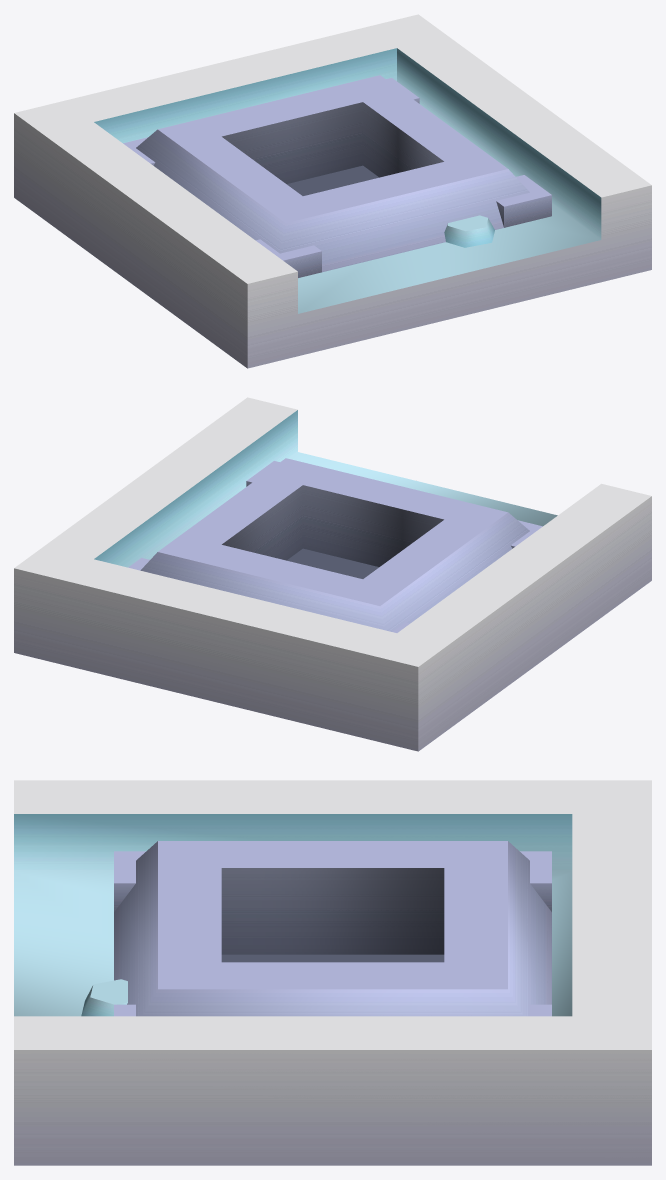
File: snow-tile-spawn-end.glb
The picture shows the model from 3 angles, top to bottom: view 1: azimuth 30°, elevation 25°; view 2: azimuth 150°, elevation 25°; view 3: azimuth 270°, elevation 25°; orthographic projection. The views are drawn at different scales.
Visible parts, largest first — view 1: snow-tile-spawn-end; view 2: snow-tile-spawn-end; view 3: snow-tile-spawn-end.
Part boxes in pixels (left/top/right/bottom): snow-tile-spawn-end: left=14, top=14, right=651, bottom=368; snow-tile-spawn-end: left=14, top=397, right=651, bottom=751; snow-tile-spawn-end: left=14, top=780, right=651, bottom=1165.
Size of the model in its own units: 1 by 0.2 by 1.
Materials: 1 (1 with a texture image).
